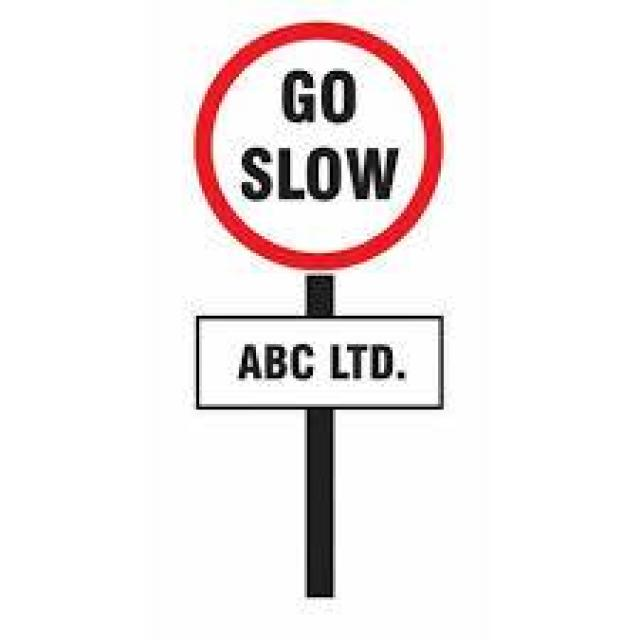go_slow: (192, 21, 444, 276)
